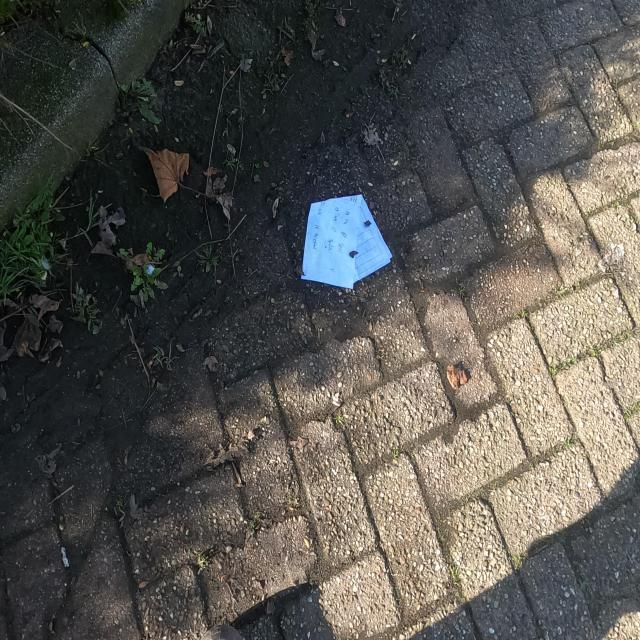Paper: (294, 193, 394, 294)
